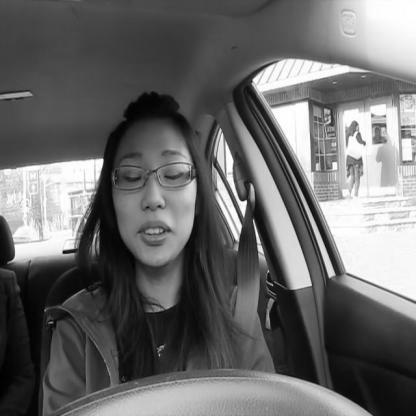seatbelt: (64, 78, 264, 402)
